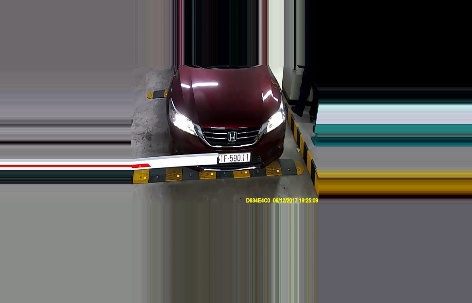plate: (212, 148, 253, 166)
